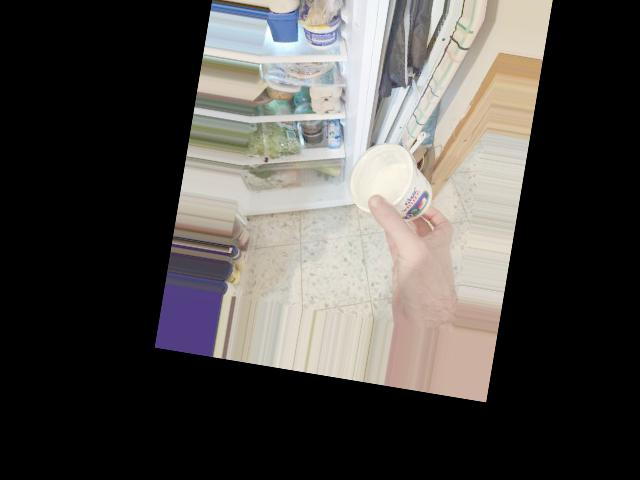cotage: (348, 138, 442, 228)
